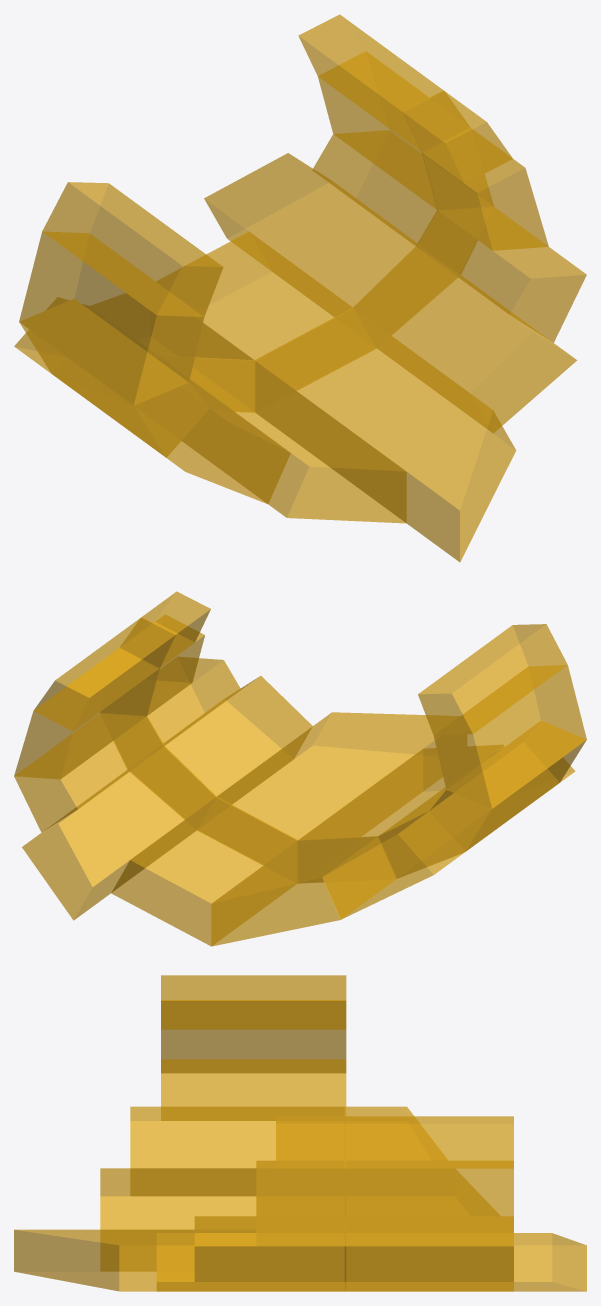
Rendered from SM_Prop_Wreck_Large_Chunk_01_Collision.fbx.
3 views of the same model, one above another, from view 1: azimuth 30°, elevation 25°; view 2: azimuth 150°, elevation 25°; view 3: azimuth 270°, elevation 25° (orthographic). The views are drawn at different scales.
Visible parts, largest first — view 1: SM_Prop_Wreck_Large_Chunk_01_Collision; view 2: SM_Prop_Wreck_Large_Chunk_01_Collision; view 3: SM_Prop_Wreck_Large_Chunk_01_Collision.
Part boxes in pixels (x1,y1,x2,y2): SM_Prop_Wreck_Large_Chunk_01_Collision: (14,14,586,562); SM_Prop_Wreck_Large_Chunk_01_Collision: (14,591,586,946); SM_Prop_Wreck_Large_Chunk_01_Collision: (14,975,586,1291).
Size of the model in its own units: 1373 by 762 by 1778.
